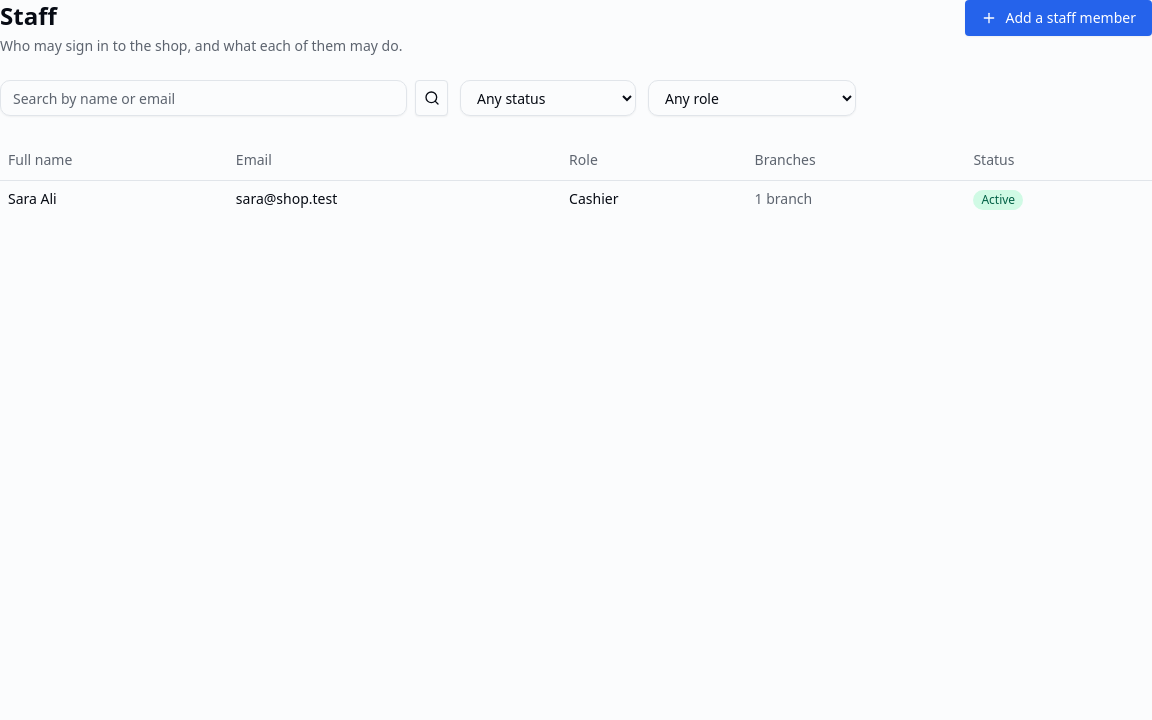
Scenario: Staff › stops asking for branches once the role covers every one of them
Click the button "Add a staff member".
click(1059, 18)  # box [965,0,1151,36]
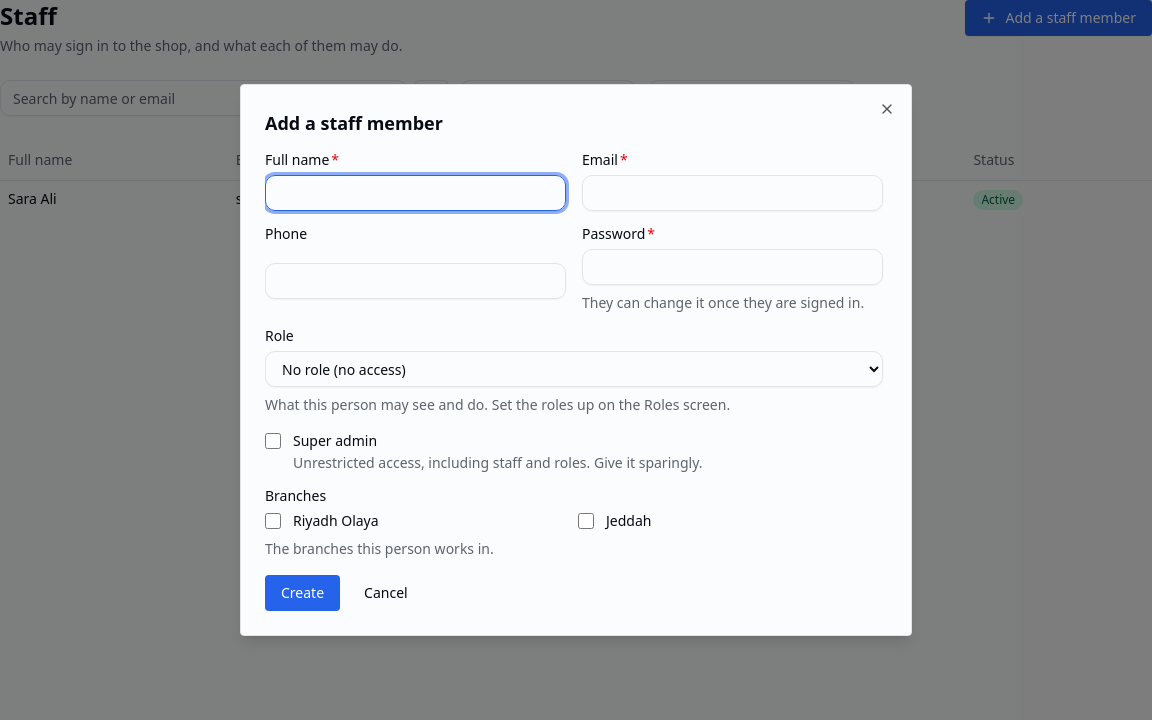
Select "Accountant" in the dropdown labelled "Role" at (574, 369), box [265,351,883,387]
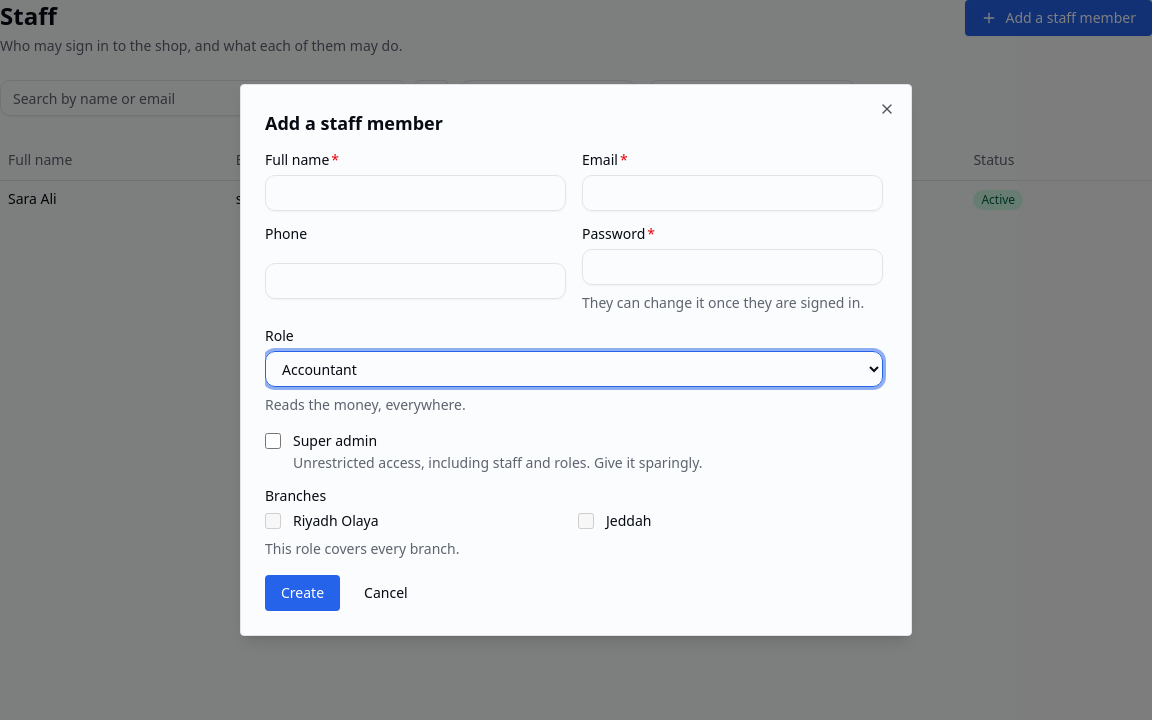
expect the text "This role covers every branch." is shown: met, box [265,539,460,558]
expect the checkbox labelled "Riyadh Olaya" is disabled: met, box [265,513,281,529]
